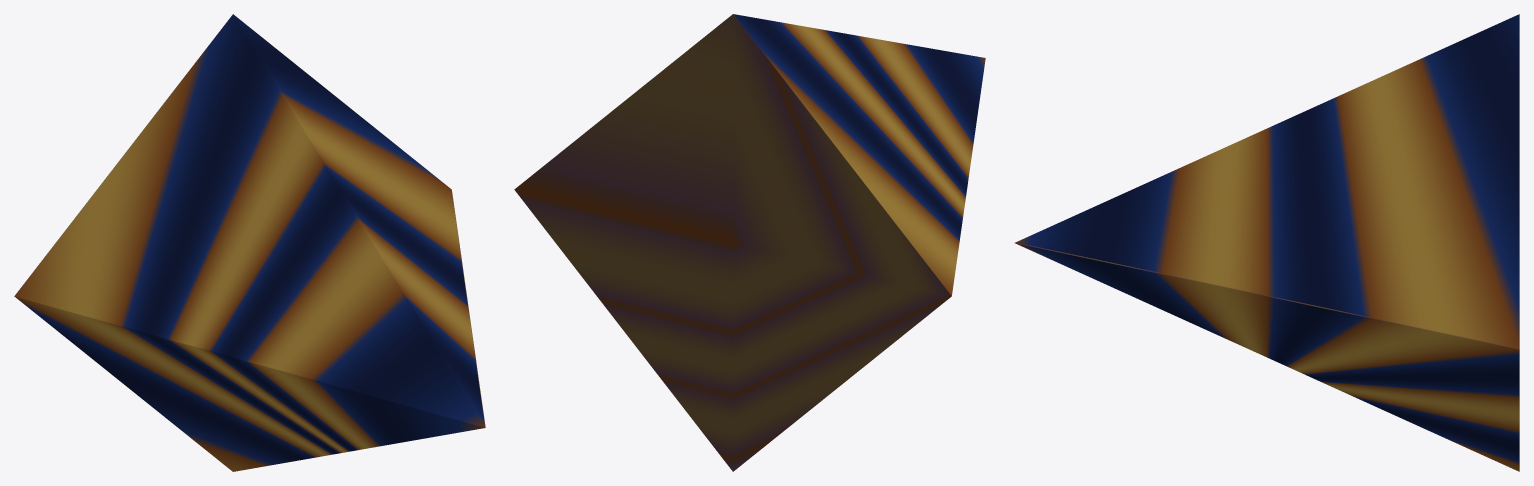
File: pyramid-copper-c2.glb
3 renders of one model, left to right at view 1: azimuth 30°, elevation 25°; view 2: azimuth 150°, elevation 25°; view 3: azimuth 270°, elevation 25°, orthographic.
Visible parts, largest first — view 1: world; view 2: world; view 3: world.
Boxes of the visible parts, bbox=[...] form: world: bbox=[14, 14, 485, 471]; world: bbox=[514, 14, 985, 471]; world: bbox=[1015, 14, 1519, 471].
Size of the model in its own units: 1.2 by 1.2 by 1.2.
Materials: 1 (1 with a texture image).
